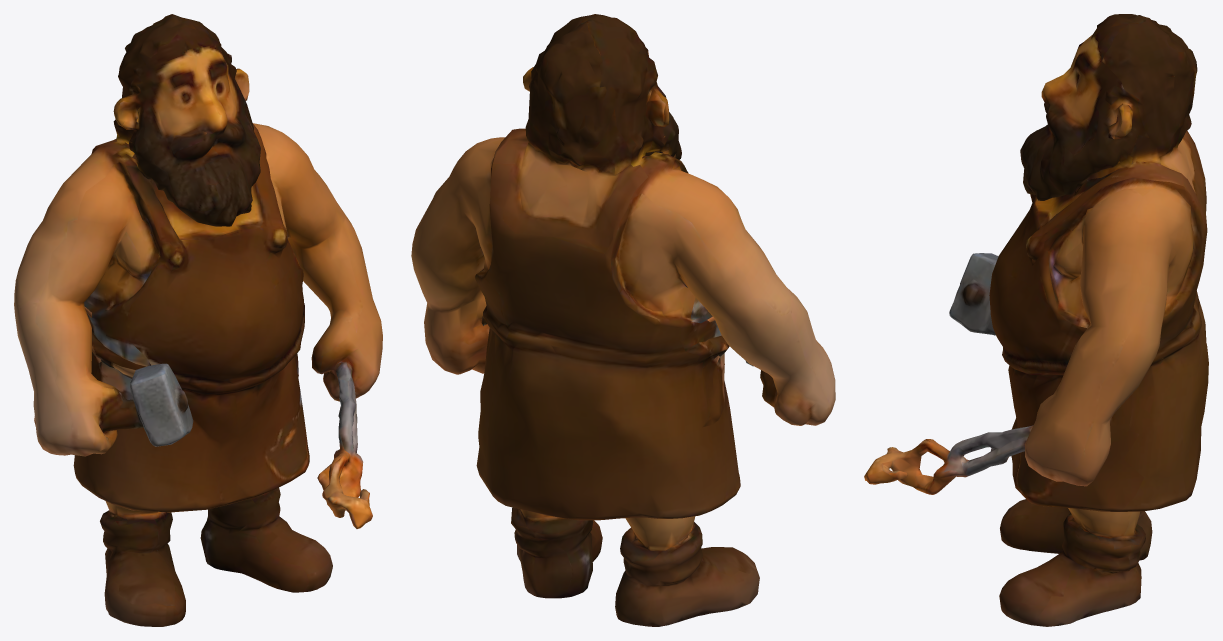
The model's file is char_bronze_smith.glb.
3 views of the same model, side by side, from view 1: azimuth 30°, elevation 25°; view 2: azimuth 150°, elevation 25°; view 3: azimuth 270°, elevation 25° (orthographic). The views are drawn at different scales.
Parts seen in each view (by area): view 1: geometry_0; view 2: geometry_0; view 3: geometry_0.
Boxes of the visible parts, box(x1,y1,x2,y2) form: geometry_0: box(14, 14, 382, 626); geometry_0: box(411, 14, 835, 626); geometry_0: box(864, 14, 1208, 626).
Size of the model in its own units: 1.34 by 1.96 by 1.1.
1 material, 1 textured.
